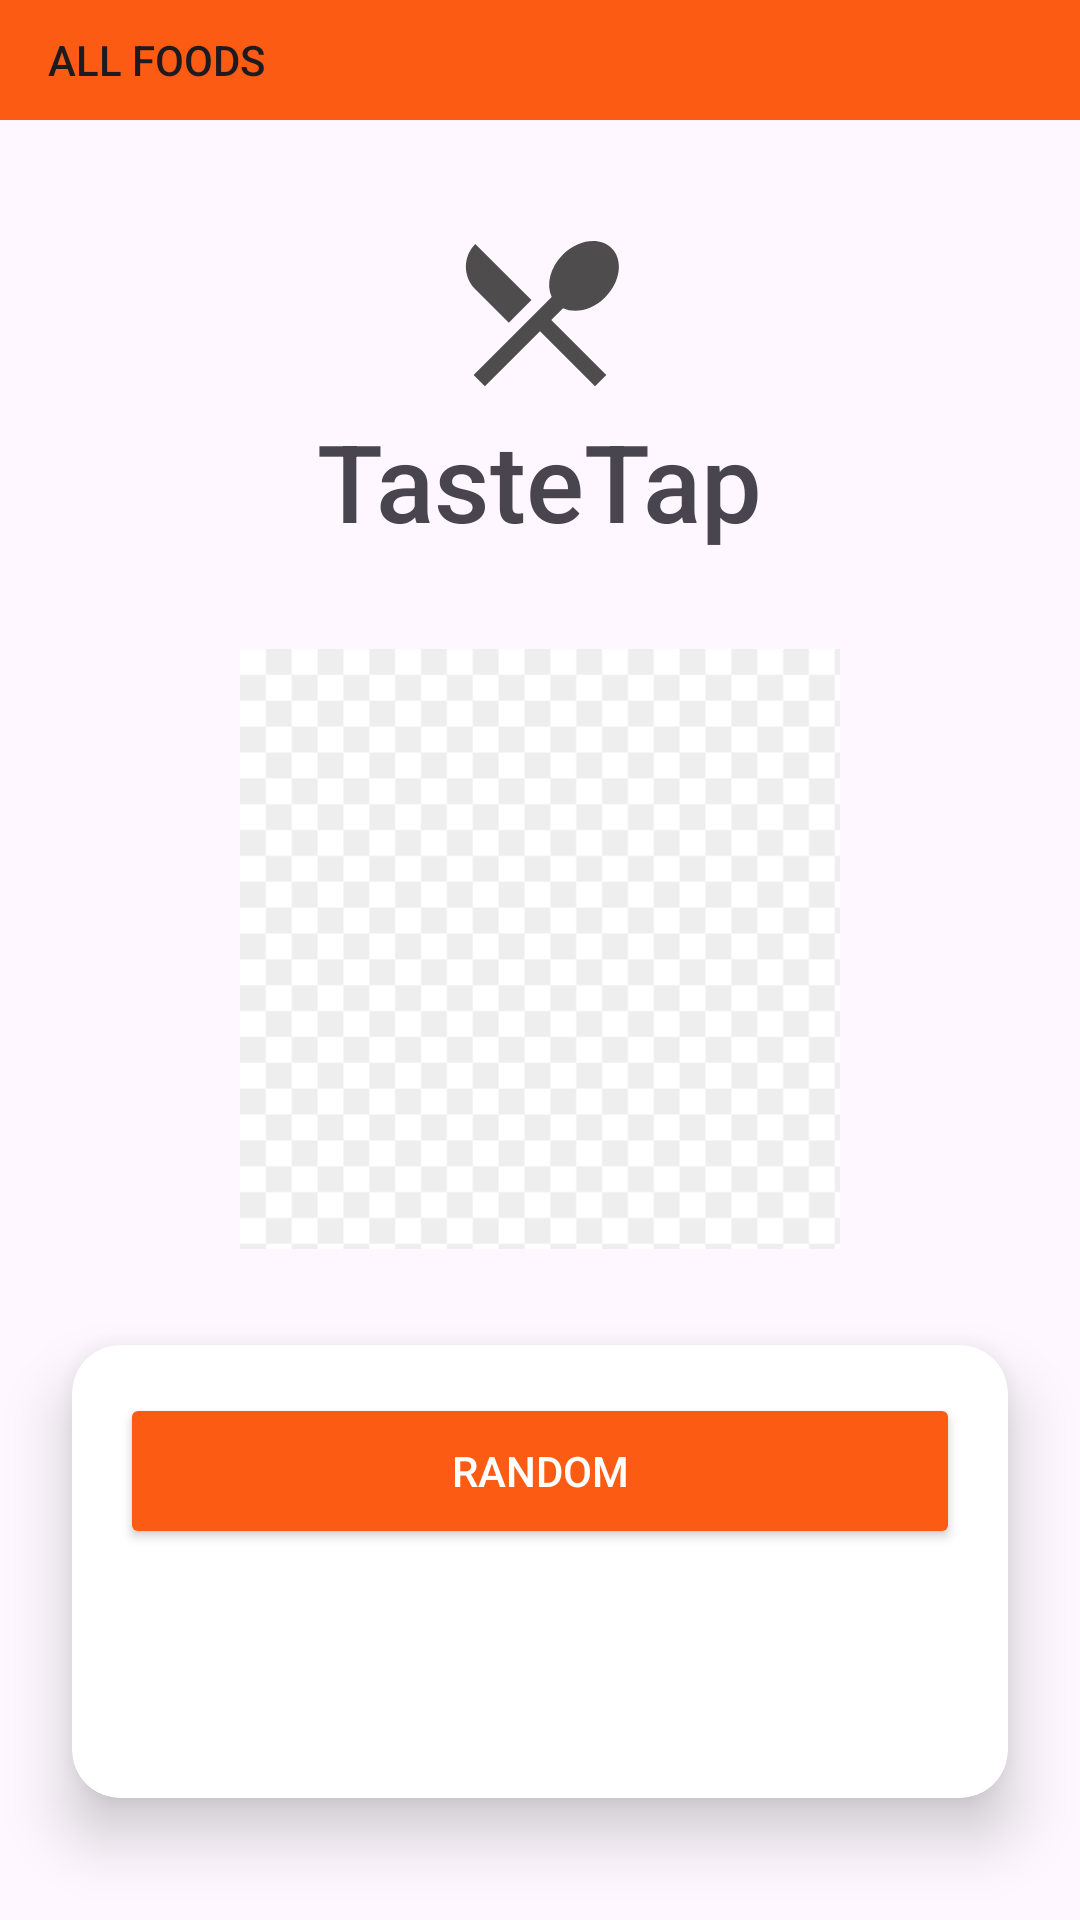

Point at icon controls on the screen. Image size 1080 x 1920, points as (x=x, y=y).
food: (x=542, y=313)
